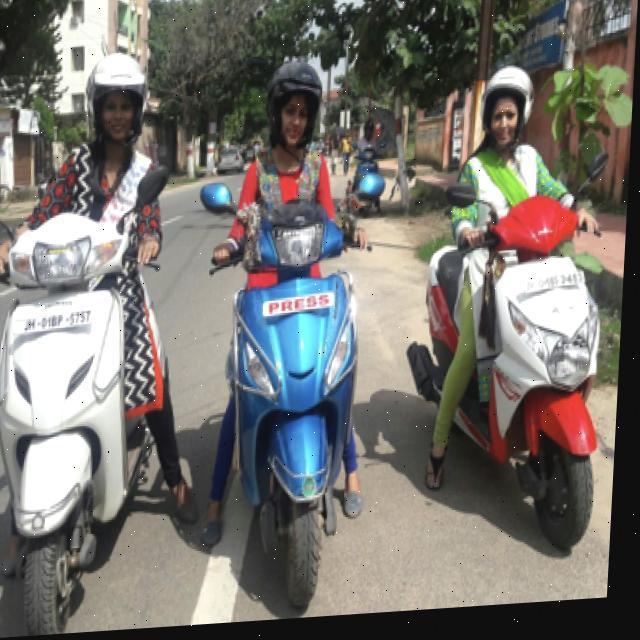Helmet: (72, 48, 162, 165), (260, 50, 330, 158), (469, 67, 543, 164)
